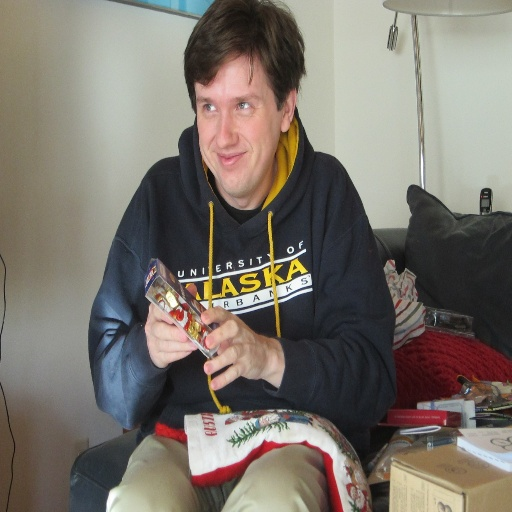hand: (202, 323, 295, 402), (142, 282, 198, 369)
